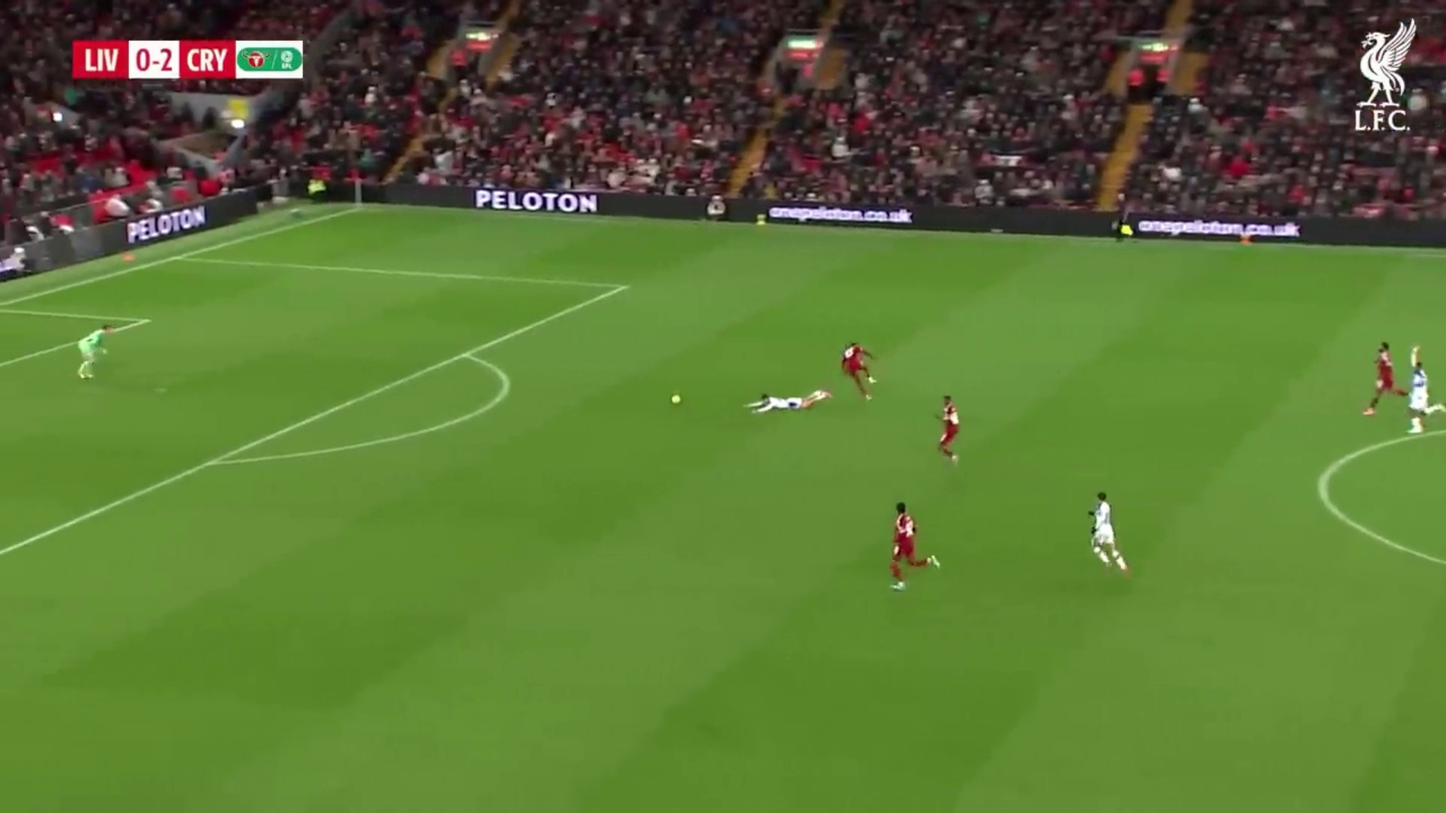player: (1089, 491, 1131, 575), (1362, 343, 1400, 418), (890, 502, 920, 587), (1405, 347, 1429, 434), (840, 341, 874, 401), (936, 393, 961, 463), (1371, 343, 1395, 412)
